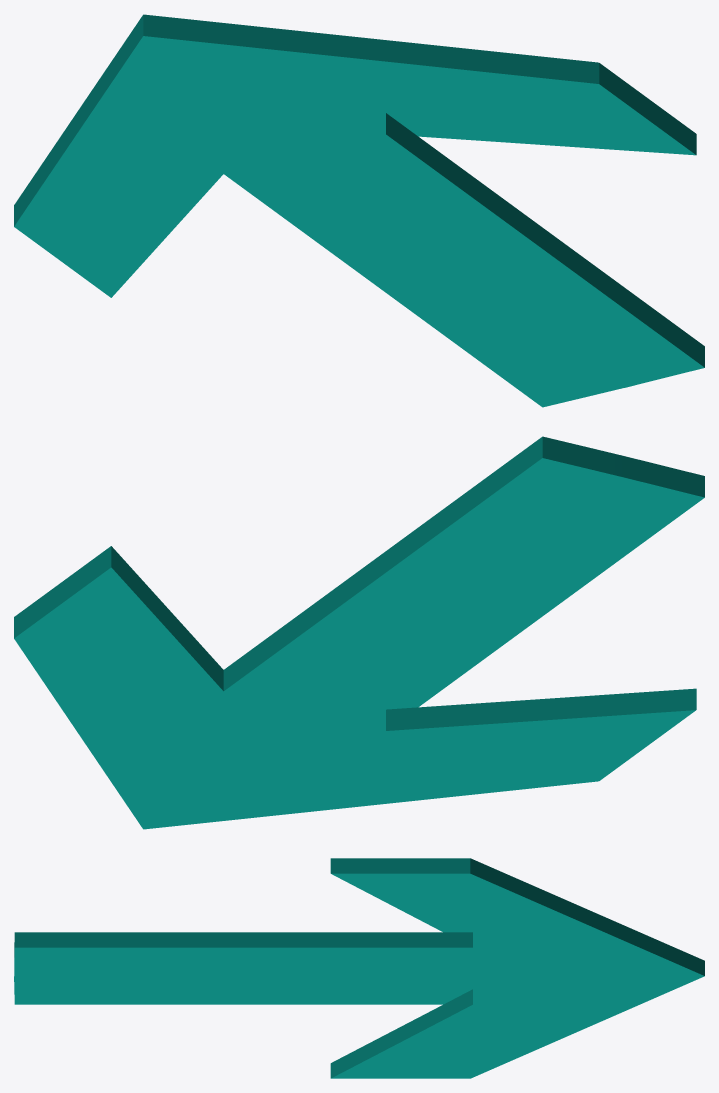
Rendered from tealarrow.glb.
The picture shows the model from 3 angles, top to bottom: view 1: azimuth 30°, elevation 25°; view 2: azimuth 150°, elevation 25°; view 3: azimuth 270°, elevation 25°; orthographic projection. The views are drawn at different scales.
Parts seen in each view (by area): view 1: Teal_Arrow; view 2: Teal_Arrow; view 3: Teal_Arrow.
Part boxes in pixels (x1,y1,x2,y2): Teal_Arrow: (14,14,704,407); Teal_Arrow: (14,436,704,829); Teal_Arrow: (14,858,704,1078).
Bounding box in the file's own units: 25.23 × 0.8863 × 35.92.
